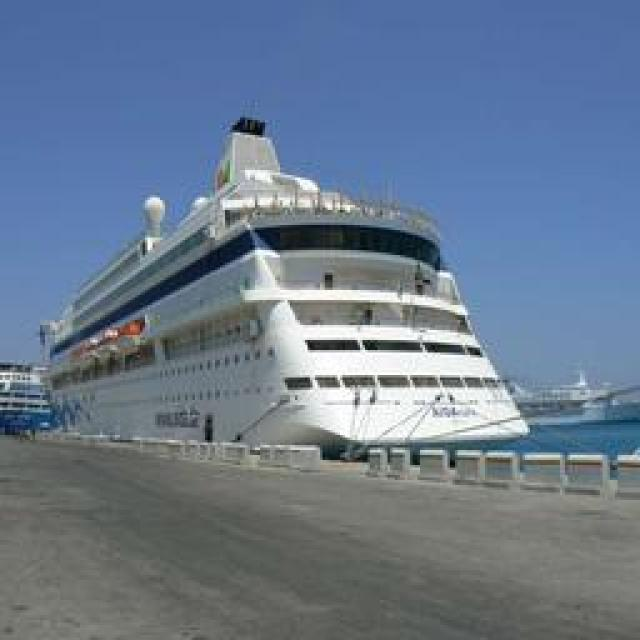CIV_Ship: (26, 105, 546, 470)
